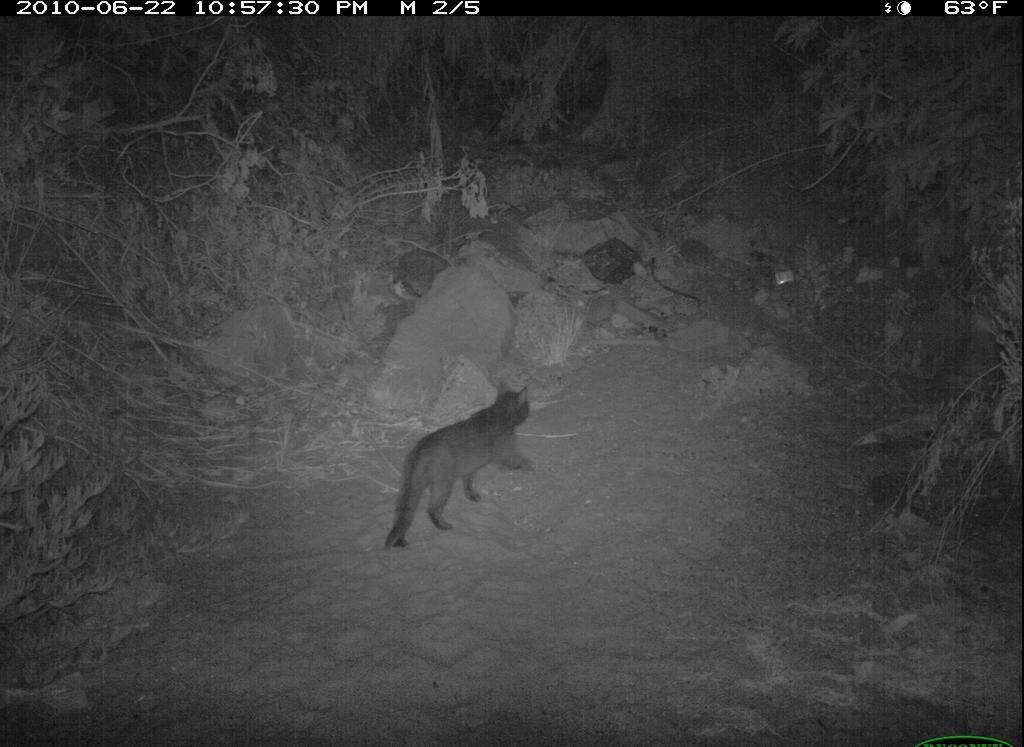cat: (372, 377, 539, 559)
